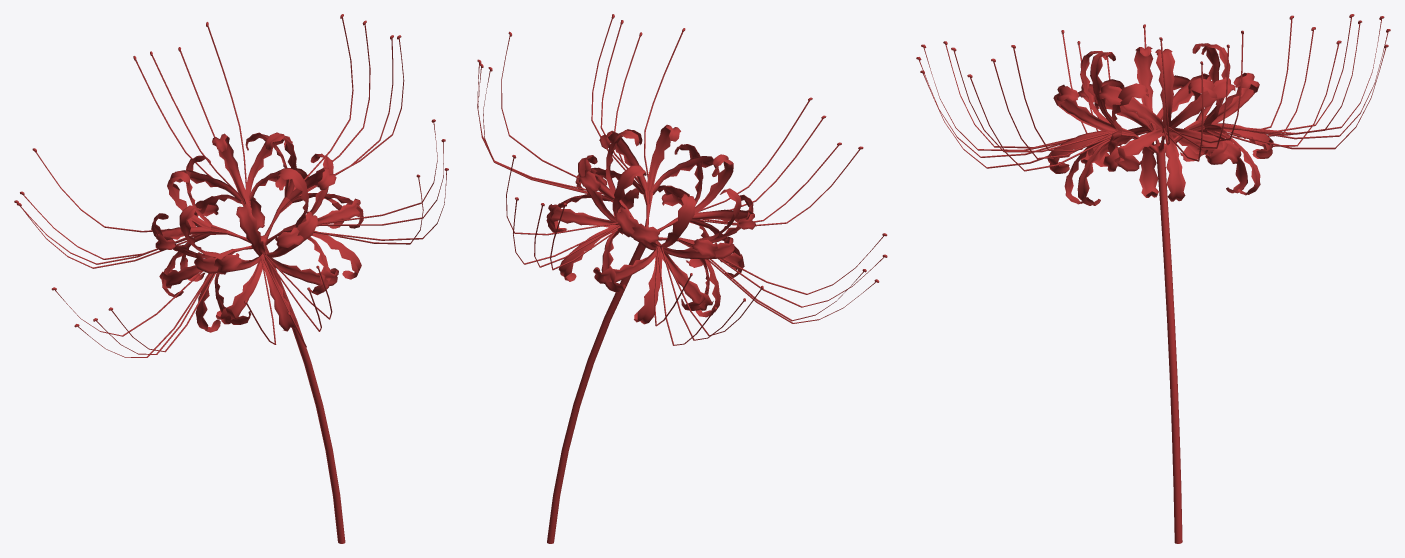
The model's file is Lycoris.fbx.
3 views of the same model, side by side, from view 1: azimuth 30°, elevation 25°; view 2: azimuth 150°, elevation 25°; view 3: azimuth 270°, elevation 25° (orthographic). The views are drawn at different scales.
Parts seen in each view (by area): view 1: Lycoris5; view 2: Lycoris5; view 3: Lycoris5.
Part boxes in pixels (box(x1,y1,x2,y2)): Lycoris5: box(14, 14, 448, 543); Lycoris5: box(477, 14, 887, 543); Lycoris5: box(916, 14, 1390, 543).
Size of the model in its own units: 18.1 by 23.48 by 19.02.
